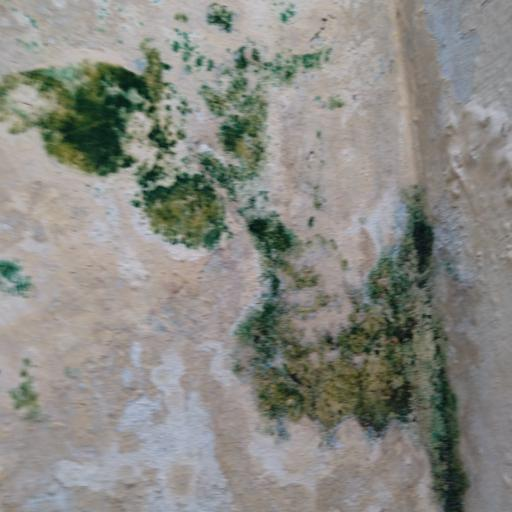algae: (7, 47, 508, 482)
